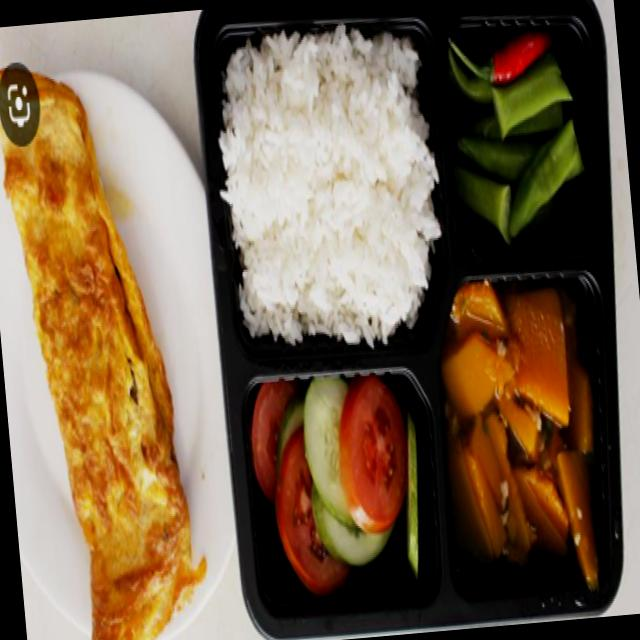ca chua: (251, 381, 351, 593), (339, 377, 406, 532)
canh bi do: (424, 298, 581, 603)
com: (218, 27, 440, 345)
dau bap: (448, 48, 579, 245)
dua leo: (275, 376, 394, 567), (405, 411, 417, 579)
ot: (449, 31, 551, 82)
trung chien: (0, 70, 205, 640)
